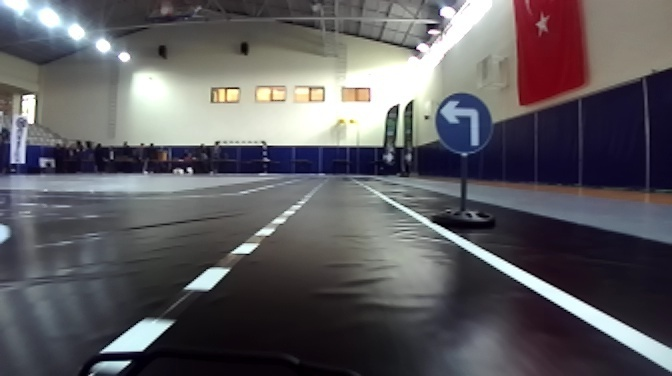sola_donus: (430, 89, 495, 158)
